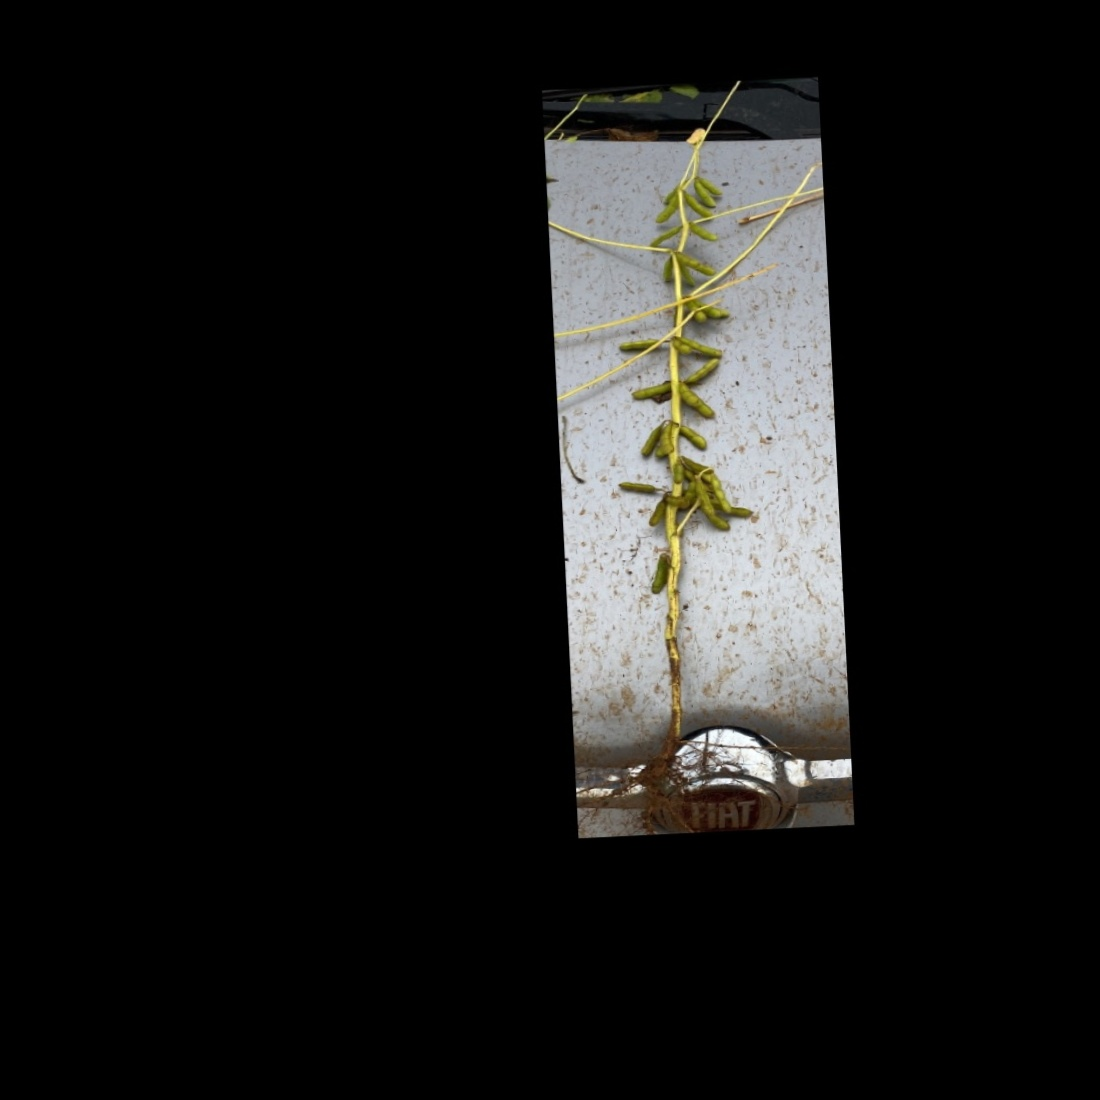pod: (645, 193, 682, 228), (678, 358, 723, 385), (645, 553, 672, 595), (679, 421, 712, 455), (623, 379, 671, 401), (686, 217, 720, 247), (646, 225, 685, 249), (613, 478, 661, 497), (615, 336, 667, 352), (645, 499, 665, 528), (661, 255, 675, 286)
soy: (576, 161, 781, 809)
